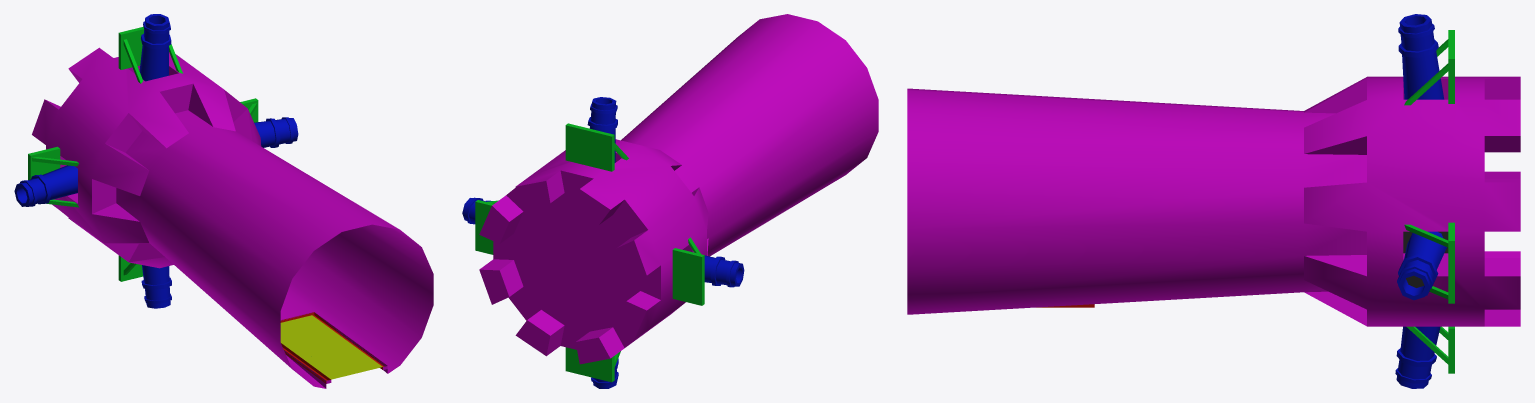
File: DefenceTower.fbx
3 views of the same model, side by side, from view 1: azimuth 30°, elevation 25°; view 2: azimuth 150°, elevation 25°; view 3: azimuth 270°, elevation 25° (orthographic). The views are drawn at different scales.
Visible parts, largest first — view 1: Cylinder; view 2: Cylinder; view 3: Cylinder.
Part boxes in pixels (x1,y1,x2,y2): Cylinder: (14,14,433,388); Cylinder: (462,14,878,388); Cylinder: (907,14,1520,388).
Size of the model in its own units: 1012 by 1012 by 1541.
